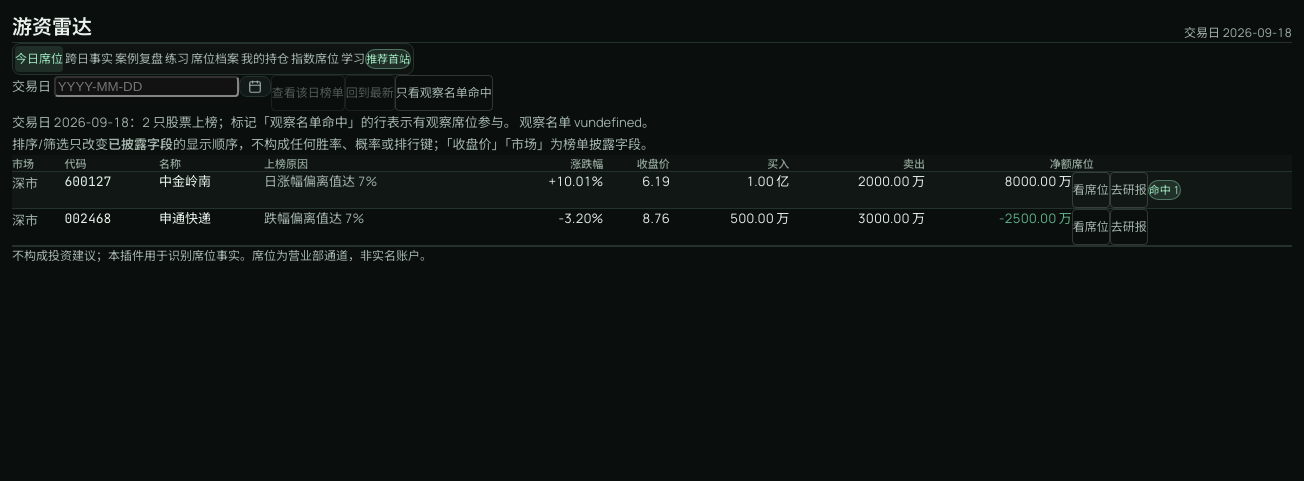
Test: YouziPage · 今日席位交互（U01/U02/U04/U07） › ★ U01：点「看席位」在行内展开明细（发出对应代码请求），点「收起」能收起
This screenshot has width=1304, height=481.
Click the button "看席位" in the row of "600127": (1091, 190) left=1072, top=172, right=1110, bottom=208
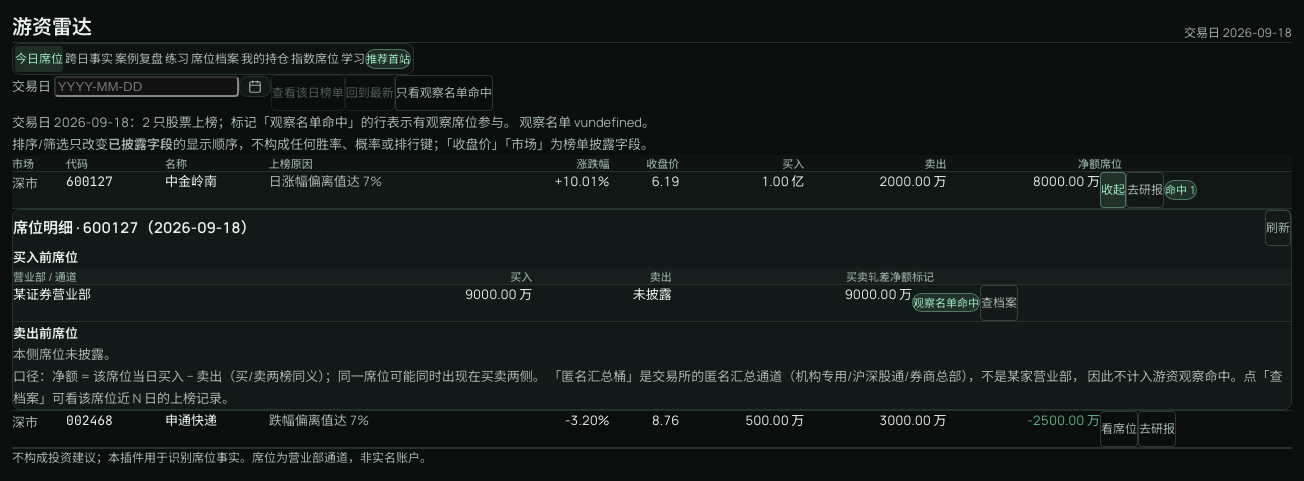
Click the button "收起": (1113, 190) left=1100, top=172, right=1126, bottom=208
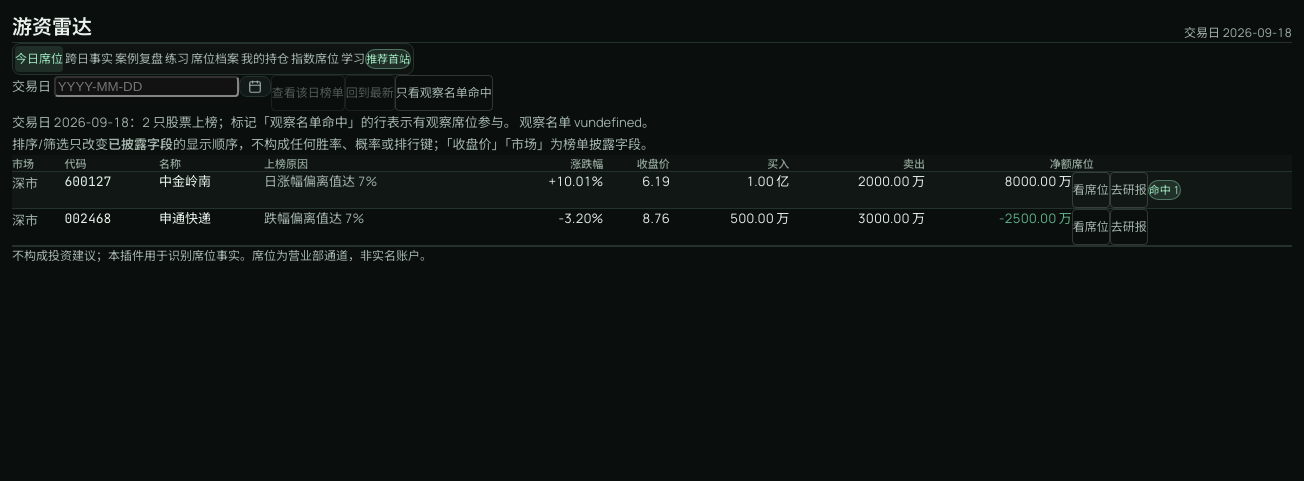
Result: the heading "席位明细 · 600127（2026-09-18）" is gone
